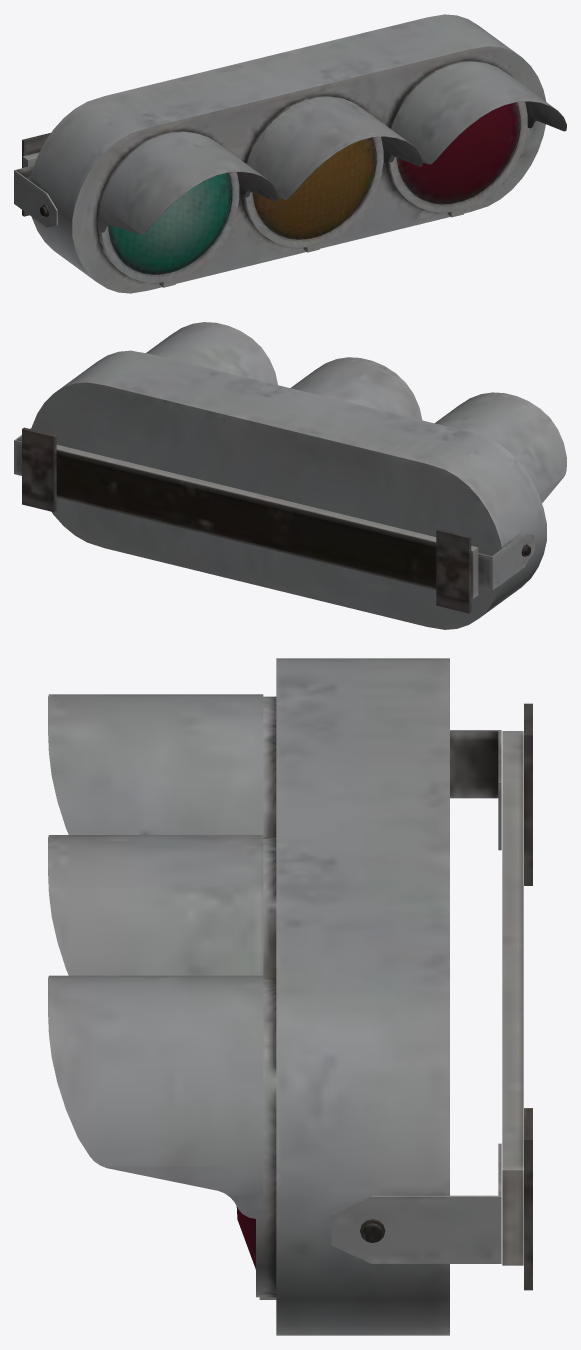
File: signal_head.glb
3 views of the same model, one above another, from view 1: azimuth 30°, elevation 25°; view 2: azimuth 150°, elevation 25°; view 3: azimuth 270°, elevation 25° (orthographic). The views are drawn at different scales.
Parts seen in each view (by area): view 1: TrafficLight_01_low_0, TrafficLight_02_low_1, TrafficLight_04_low_3, TrafficLight_07_low_6; view 2: TrafficLight_01_low_0, TrafficLight_06_low_5, TrafficLight_02_low_1, TrafficLight_07_low_6, TrafficLight_04_low_3; view 3: TrafficLight_01_low_0, TrafficLight_02_low_1, TrafficLight_04_low_3, TrafficLight_06_low_5, TrafficLight_07_low_6.
Part boxes in pixels (x1,y1,x2,y2): TrafficLight_01_low_0: [30, 14, 546, 293]; TrafficLight_02_low_1: [99, 61, 566, 234]; TrafficLight_04_low_3: [14, 165, 57, 227]; TrafficLight_07_low_6: [22, 133, 50, 216]; TrafficLight_01_low_0: [31, 350, 546, 629]; TrafficLight_06_low_5: [56, 444, 478, 598]; TrafficLight_02_low_1: [146, 322, 566, 503]; TrafficLight_07_low_6: [22, 427, 471, 613]; TrafficLight_04_low_3: [14, 428, 534, 590]; TrafficLight_01_low_0: [236, 658, 449, 1335]; TrafficLight_02_low_1: [48, 694, 263, 1218]; TrafficLight_04_low_3: [331, 730, 501, 1263]; TrafficLight_06_low_5: [502, 731, 523, 1265]; TrafficLight_07_low_6: [524, 703, 532, 1290].
Bounding box in the file's own units: 1.1 × 0.3517 × 0.4744.
Materials: 1 (1 with a texture image).
